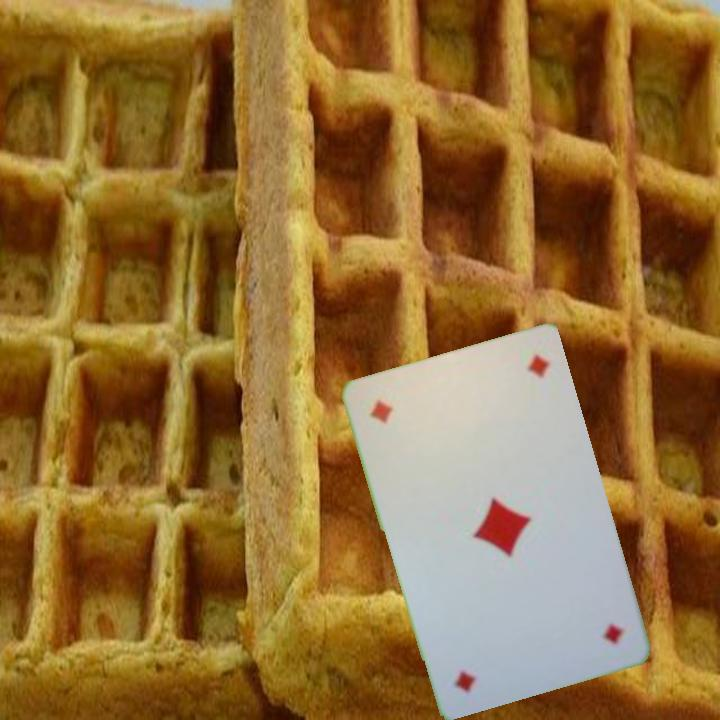d_a.png: (515, 568, 634, 677), (359, 368, 477, 477)
